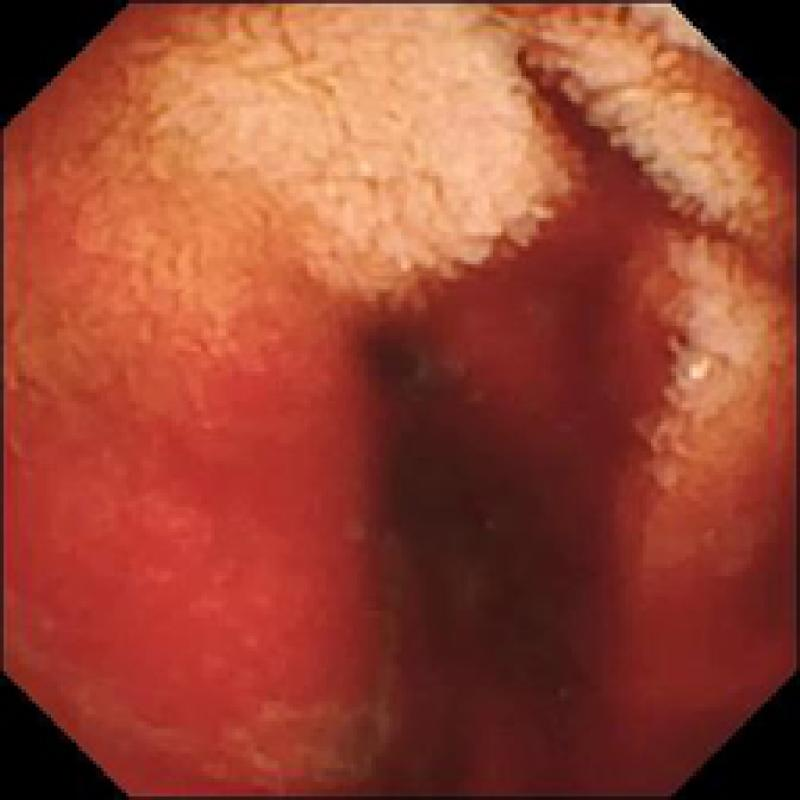bleeding: (0, 78, 800, 800)
